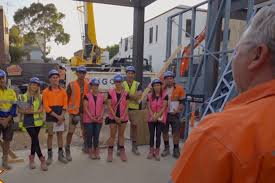Person_wearing_helmet: (73, 60, 88, 75)
